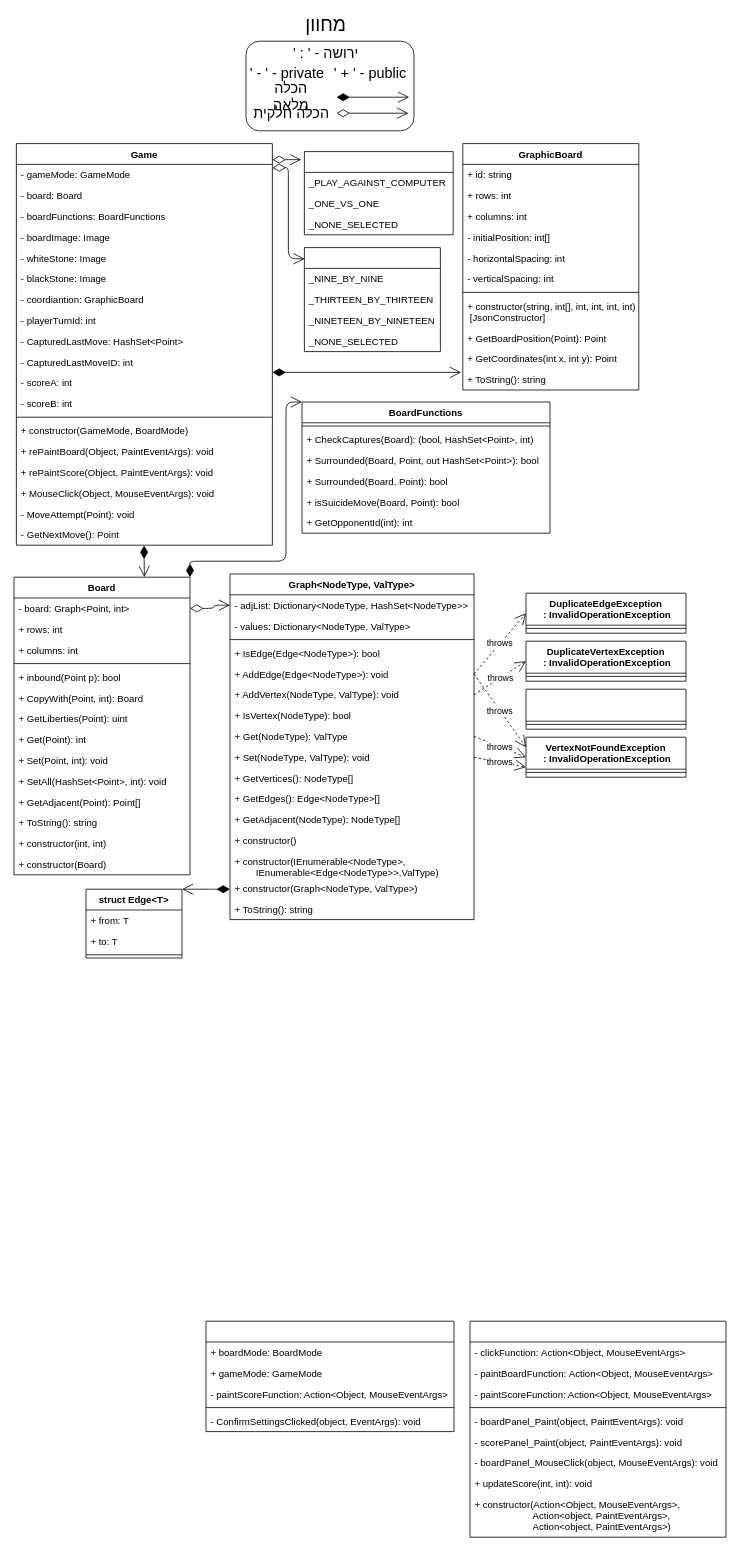
The diagram is 740 pixels wide and 1554 high, and some of its shapes have lost their labels. The box of each missing label's shape, as (x1, y1, x2, y2) in pixels:
BoardMode : Enum: (304, 247, 440, 352)
EdgeNotFoundException : InvalidOperationException: (525, 688, 686, 729)
GameMode : Enum: (304, 151, 453, 235)
MainForm : Form: (469, 1320, 726, 1537)
Settings : Form: (205, 1320, 454, 1432)
